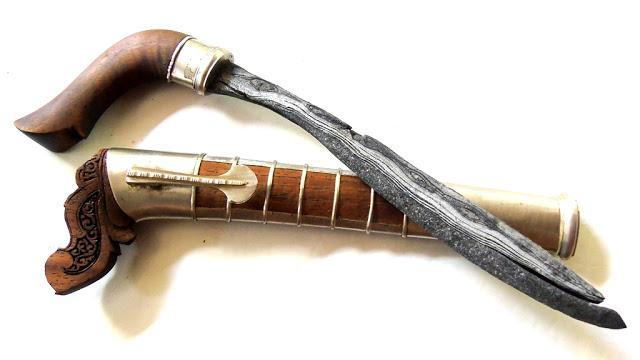facao: (3, 19, 637, 344)
